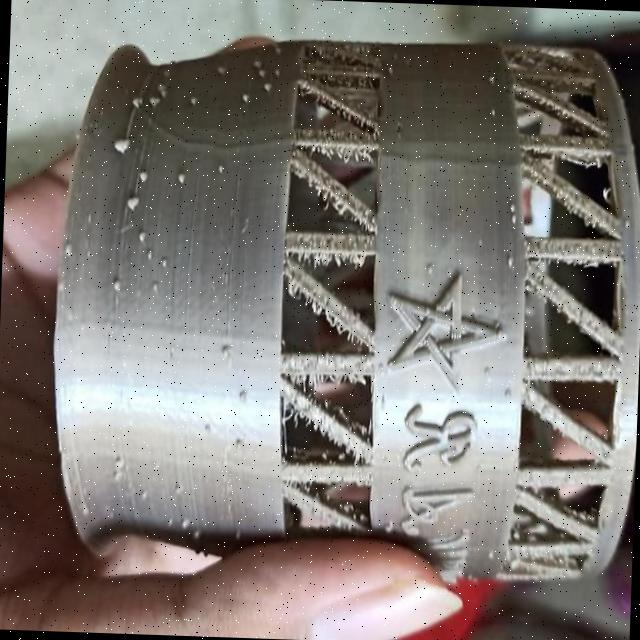blobs: (109, 133, 132, 156), (126, 90, 144, 116), (110, 454, 133, 474), (233, 390, 252, 411), (182, 92, 203, 111), (122, 194, 140, 216), (482, 70, 499, 93), (145, 276, 162, 298), (422, 252, 436, 278), (61, 238, 79, 258), (169, 480, 187, 500), (216, 341, 234, 360), (170, 172, 190, 189), (108, 274, 125, 294), (148, 92, 167, 109), (134, 164, 148, 187), (502, 251, 516, 274), (485, 102, 500, 123), (213, 60, 228, 80), (176, 514, 192, 532), (144, 247, 158, 266), (158, 256, 174, 272), (238, 89, 250, 110), (213, 162, 228, 178), (503, 200, 518, 216), (135, 224, 148, 242), (504, 214, 520, 228), (260, 80, 272, 96)
